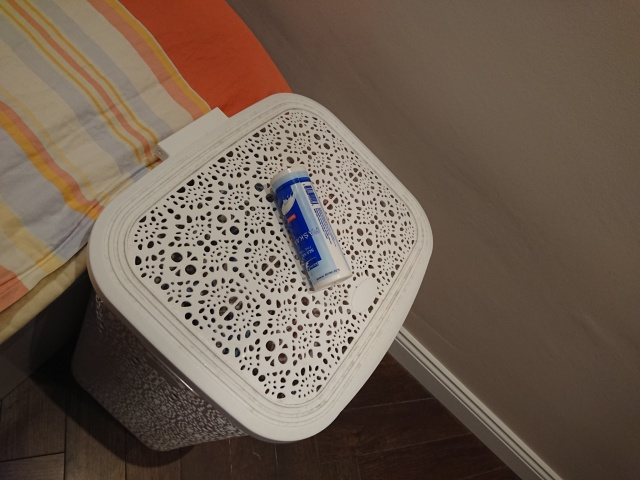Solana Pag Fine Sea Salt 250g: (266, 162, 355, 292)
